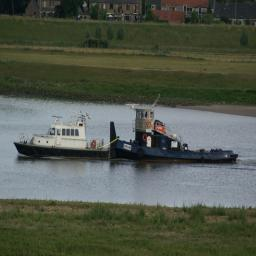tugboat: (110, 93, 241, 170)
